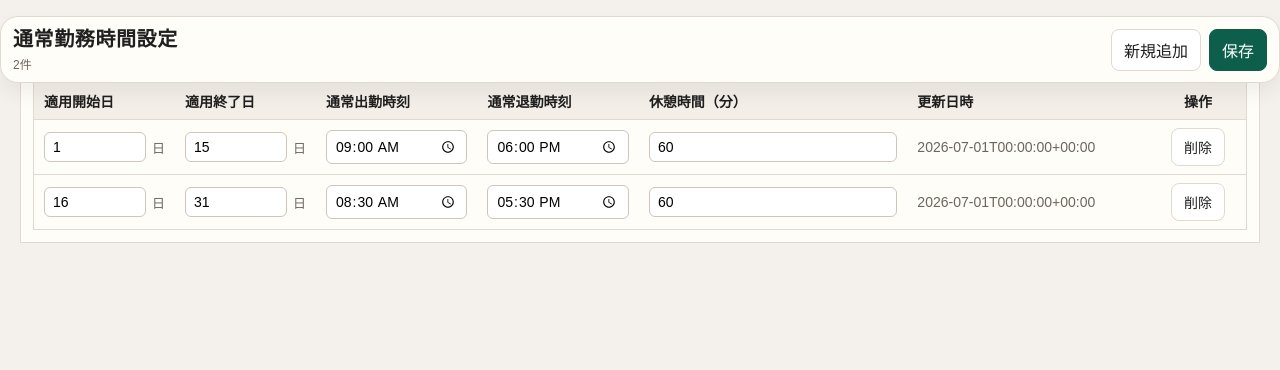
Test: 通常勤務時間設定画面 › Backend重複エラーをエラー一覧へ表示する
Replace the text in the time field named "1行目 通常出勤時刻" with "08:45" at (397, 147), box [326,130,467,164]
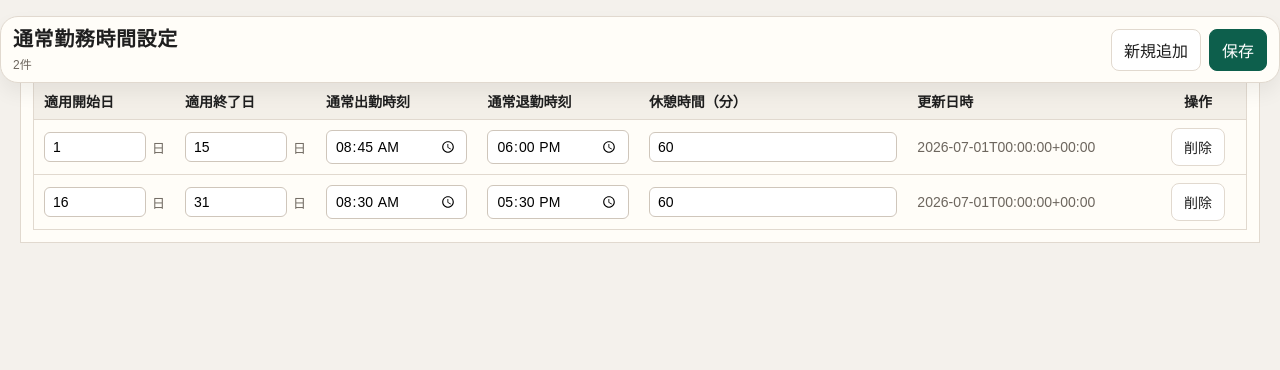
Click the button "保存".
click(1238, 50)  # box [1209,28,1267,70]
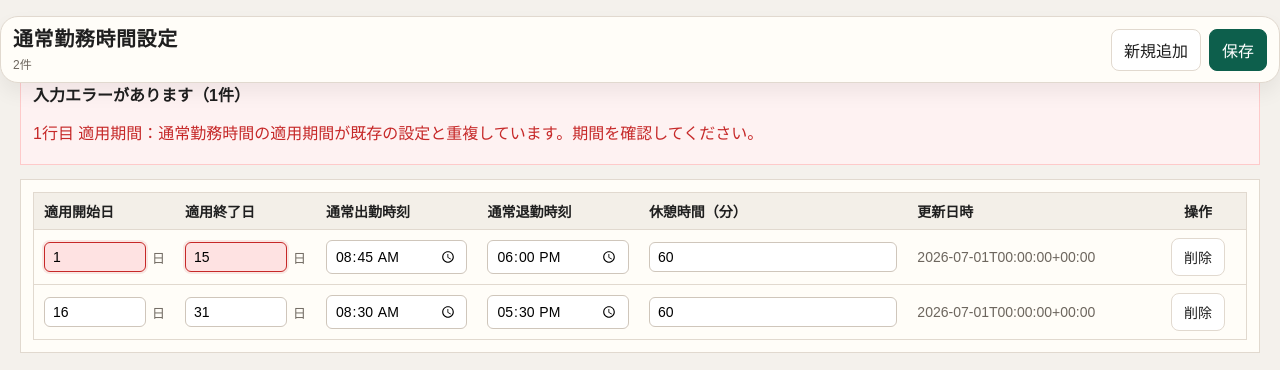
Result: the message shows "1行目 適用期間：通常勤務時間の適用期間が既存の設定と重複しています。期間を確認してください。" at [33,122,1239,146]
